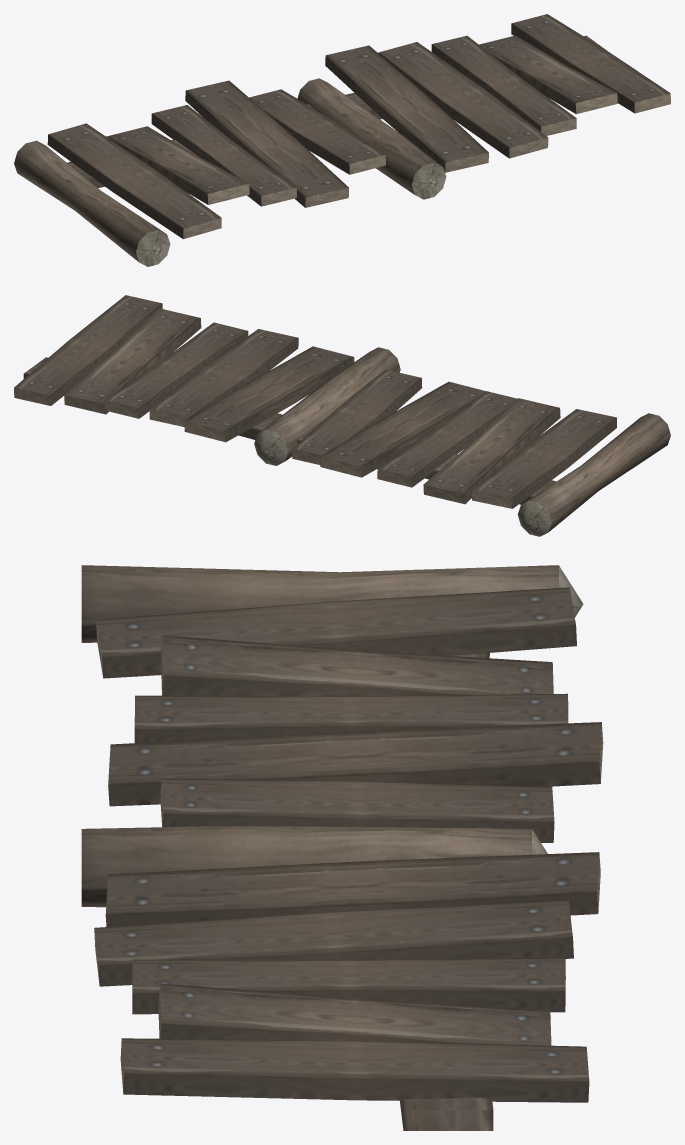
The model's file is Fence_Type_02_B.fbx.
The picture shows the model from 3 angles, top to bottom: view 1: azimuth 30°, elevation 25°; view 2: azimuth 150°, elevation 25°; view 3: azimuth 270°, elevation 25°; orthographic projection. The views are drawn at different scales.
Parts seen in each view (by area): view 1: Fence_Type_02_B; view 2: Fence_Type_02_B; view 3: Fence_Type_02_B.
Part boxes in pixels (<box>): Fence_Type_02_B: <box>14,14,670,266</box>; Fence_Type_02_B: <box>14,295,670,536</box>; Fence_Type_02_B: <box>81,565,603,1130</box>.
Size of the model in its own units: 4.04 by 0.2853 by 1.68.
